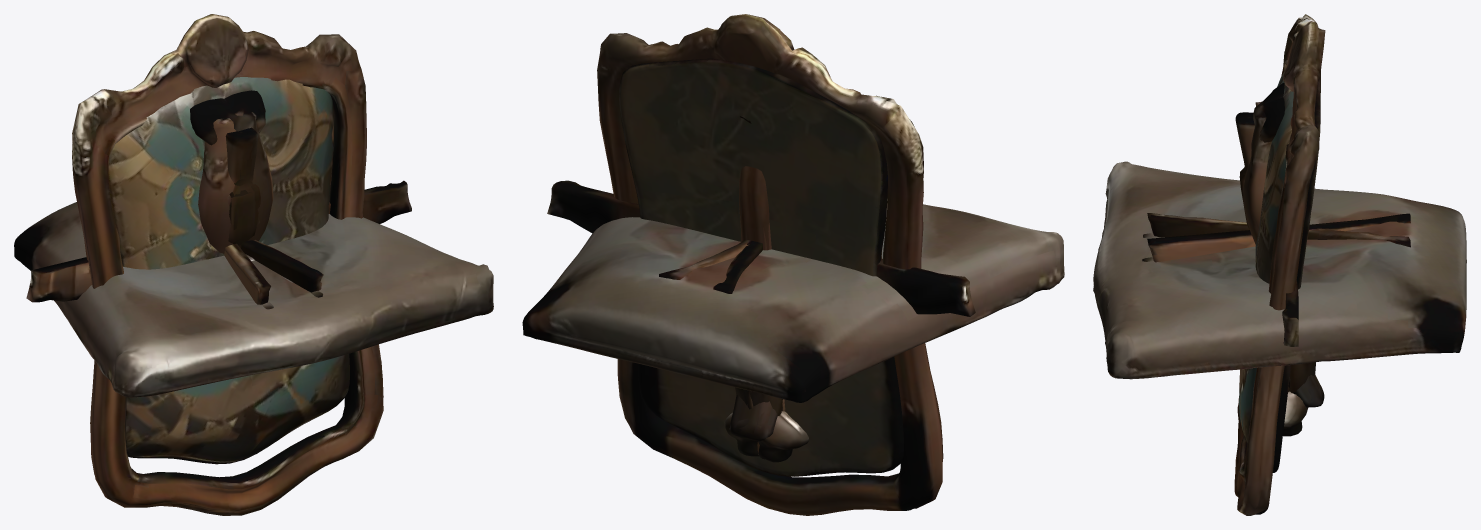
3 renders of one model, left to right at view 1: azimuth 30°, elevation 25°; view 2: azimuth 150°, elevation 25°; view 3: azimuth 270°, elevation 25°, orthographic. The views are drawn at different scales.
Parts seen in each view (by area): view 1: root.0, root.2, root.1, root.3, root.5, root.4, root.9, root.13, root.14, root.6; view 2: root.1, root.0, root.2, root.5, root.7, root.3, root.13, root.4, root.6, root.9, root.14; view 3: root.0, root.2, root.1, root.4, root.13, root.14, root.6, root.3, root.5.
Boxes of the visible parts, <box> form: root.0: <box>14,202,493,397</box>; root.2: <box>72,14,383,515</box>; root.1: <box>108,77,349,464</box>; root.3: <box>198,90,265,253</box>; root.5: <box>26,180,411,302</box>; root.4: <box>190,98,273,241</box>; root.9: <box>225,128,256,248</box>; root.13: <box>241,240,323,292</box>; root.14: <box>224,243,270,304</box>; root.6: <box>229,127,260,245</box>; root.1: <box>619,58,903,476</box>; root.0: <box>522,199,1064,402</box>; root.2: <box>597,14,943,515</box>; root.5: <box>547,180,975,316</box>; root.7: <box>739,166,785,454</box>; root.3: <box>735,116,808,462</box>; root.13: <box>713,240,762,293</box>; root.4: <box>724,391,782,456</box>; root.6: <box>729,394,766,439</box>; root.9: <box>731,399,782,441</box>; root.14: <box>659,239,748,279</box>; root.0: <box>1093,161,1466,379</box>; root.2: <box>1234,14,1325,515</box>; root.1: <box>1239,69,1320,472</box>; root.4: <box>1243,83,1314,436</box>; root.13: <box>1147,213,1410,262</box>; root.14: <box>1147,213,1410,247</box>; root.6: <box>1236,113,1323,407</box>; root.3: <box>1255,97,1315,393</box>; root.5: <box>1282,281,1298,346</box>.
Size of the model in its own units: 15283 by 18044 by 13097.
Materials: 1 (1 with a texture image).
